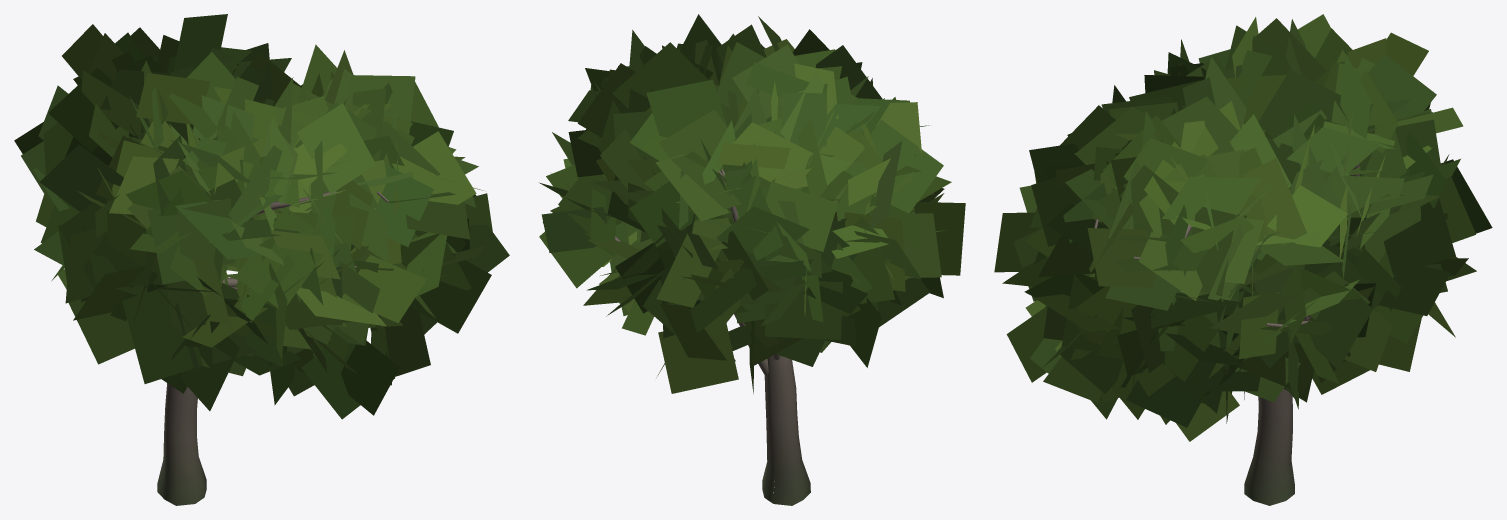
File: broadleaf.maple.summer.glb
The picture shows the model from 3 angles, left to right: view 1: azimuth 30°, elevation 25°; view 2: azimuth 150°, elevation 25°; view 3: azimuth 270°, elevation 25°; orthographic projection. The views are drawn at different scales.
Parts seen in each view (by area): view 1: broadleaf_maple_summer; view 2: broadleaf_maple_summer; view 3: broadleaf_maple_summer.
Part boxes in pixels (x1,y1,x2,y2): broadleaf_maple_summer: [14, 14, 509, 505]; broadleaf_maple_summer: [539, 14, 965, 505]; broadleaf_maple_summer: [994, 14, 1492, 505].
Size of what is drawn, in the model's own units: 6.82 by 7.12 by 6.99.
